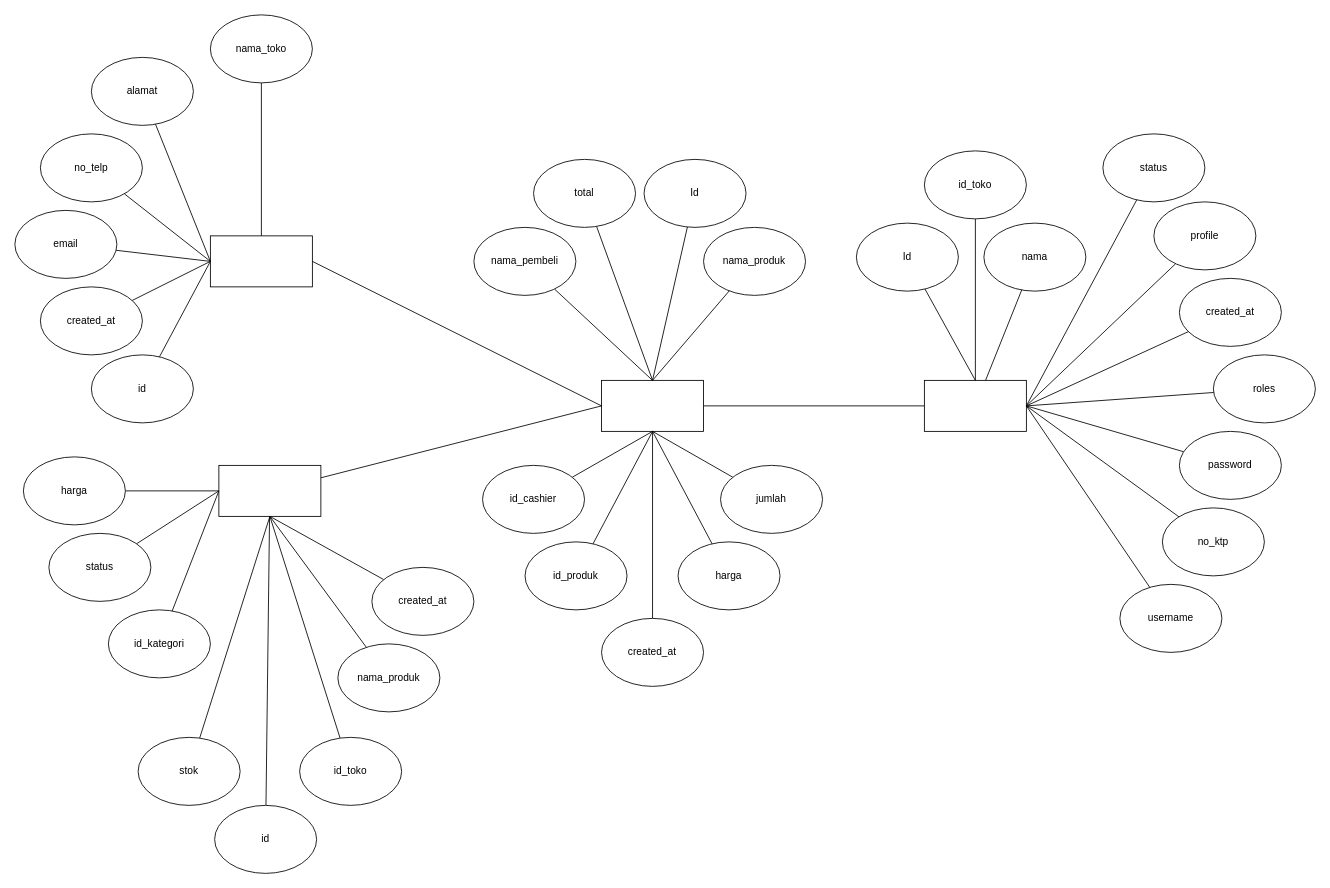
Some shapes in this 1330 by 888 pixel diagram are drawn without their labels. The centre of each missing label's shape, as x and y in pixels:
"produk" belongs at [269,490].
"toko" belongs at [261,261].
"Transaksi" belongs at [652,405].
"Users" belongs at [975,405].
